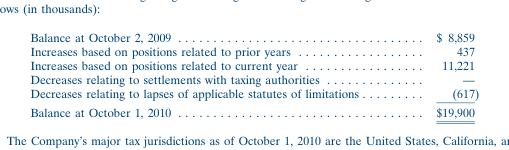table: (29, 29, 478, 119)
table column: (29, 29, 396, 119), (396, 29, 478, 119)
table row: (29, 102, 478, 119), (29, 86, 478, 102), (29, 71, 478, 86), (29, 29, 478, 43), (29, 43, 478, 57), (29, 57, 478, 71)
